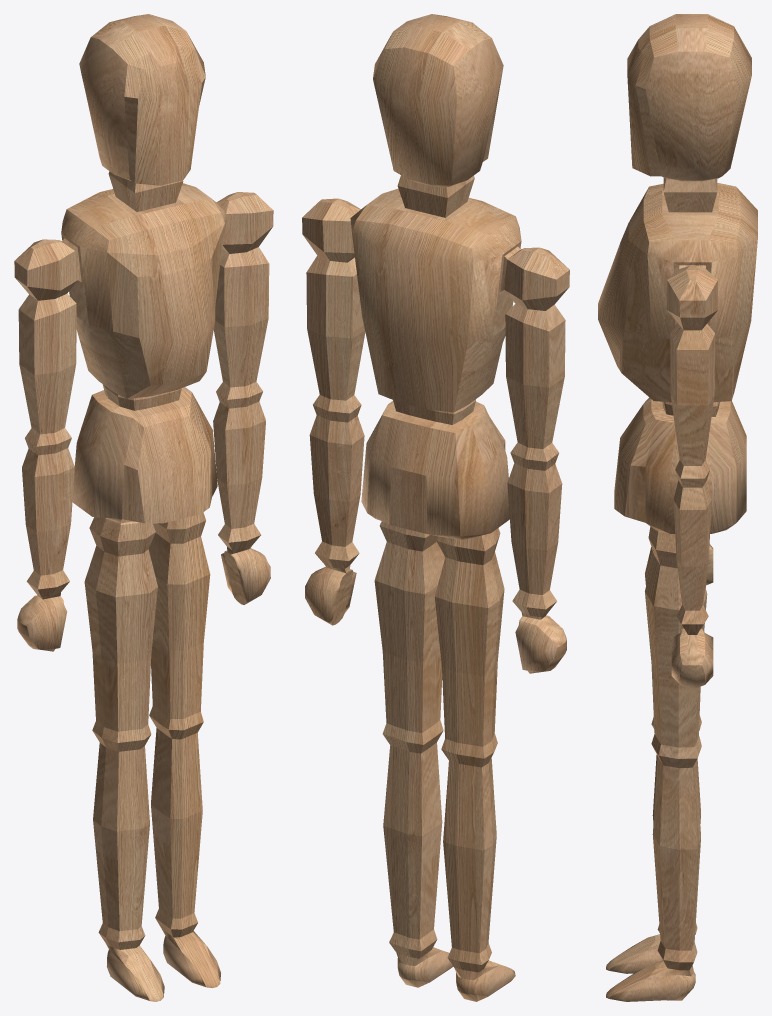
File: wood dall ff.fbx
3 views of the same model, side by side, from view 1: azimuth 30°, elevation 25°; view 2: azimuth 150°, elevation 25°; view 3: azimuth 270°, elevation 25° (orthographic). The views are drawn at different scales.
Parts seen in each view (by area): view 1: Box003; view 2: Box003; view 3: Box003.
Boxes of the visible parts, x1,y1,x2,y2 form: Box003: (14,14,273,1001); Box003: (302,14,569,1001); Box003: (598,14,757,1001).
Bounding box in the file's own units: 23.88 × 13.15 × 87.27.
Materials: 1 (1 with a texture image).
